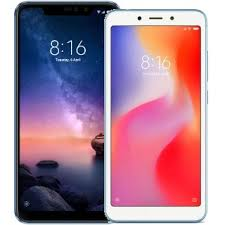mi: (100, 6, 209, 221), (13, 1, 108, 224)
